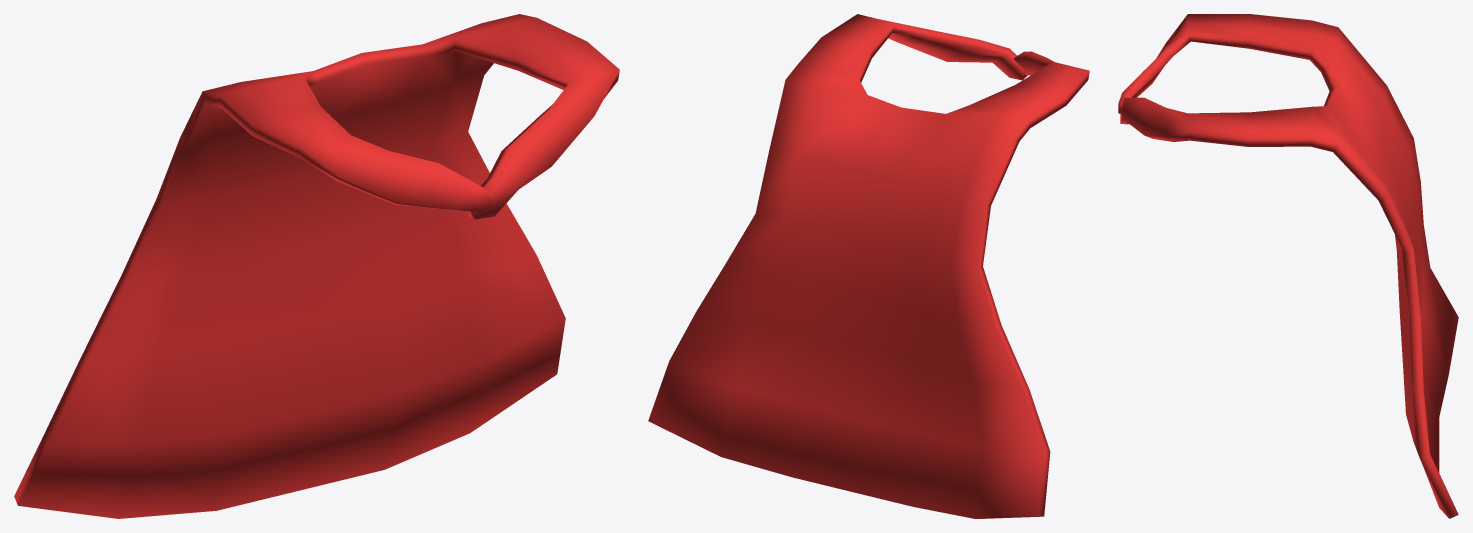
The model's file is CUCape.fbx.
3 renders of one model, left to right at view 1: azimuth 30°, elevation 25°; view 2: azimuth 150°, elevation 25°; view 3: azimuth 270°, elevation 25°, orthographic. The views are drawn at different scales.
Visible parts, largest first — view 1: Cape; view 2: Cape; view 3: Cape.
Boxes of the visible parts, box(x1,y1,x2,y2) form: Cape: box(14, 14, 619, 518); Cape: box(648, 14, 1089, 518); Cape: box(1118, 14, 1458, 518).
Bounding box in the file's own units: 184 × 163 × 133.
